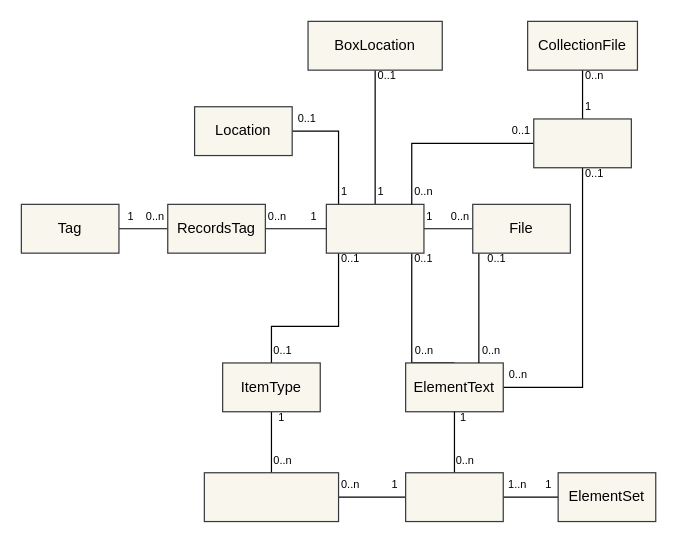
Some shapes in this 677 by 555 pixel diagram are drawn without their labels. Here are the shapes that lost their labels. From the top down, the box of each, then its label:
(533, 118, 631, 168): Collection
(325, 203, 424, 253): Item
(203, 472, 339, 522): ItemTypesElements
(404, 472, 503, 522): Element
